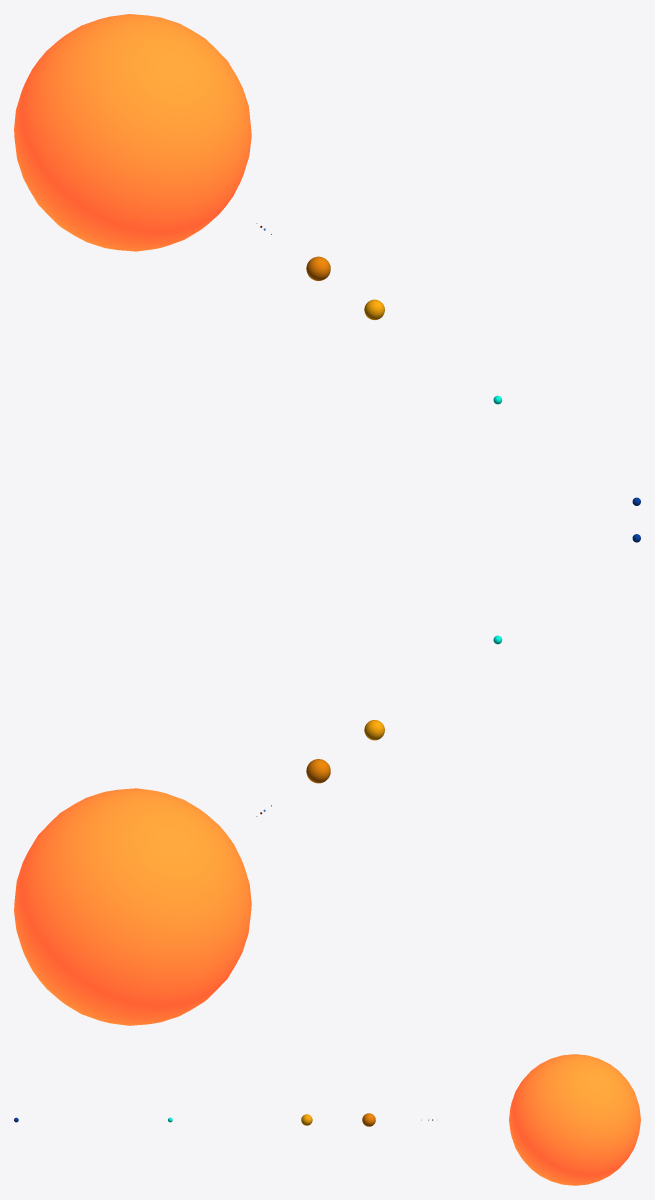
File: planets.fbx
3 views of the same model, one above another, from view 1: azimuth 30°, elevation 25°; view 2: azimuth 150°, elevation 25°; view 3: azimuth 270°, elevation 25° (orthographic). The views are drawn at different scales.
Visible parts, largest first — view 1: sun; view 2: sun; view 3: sun.
Part boxes in pixels (x1,y1,x2,y2): sun: (14, 14, 251, 251); sun: (14, 788, 251, 1025); sun: (509, 1054, 640, 1185).
Bounding box in the file's own units: 139140 × 139140 × 660656.
